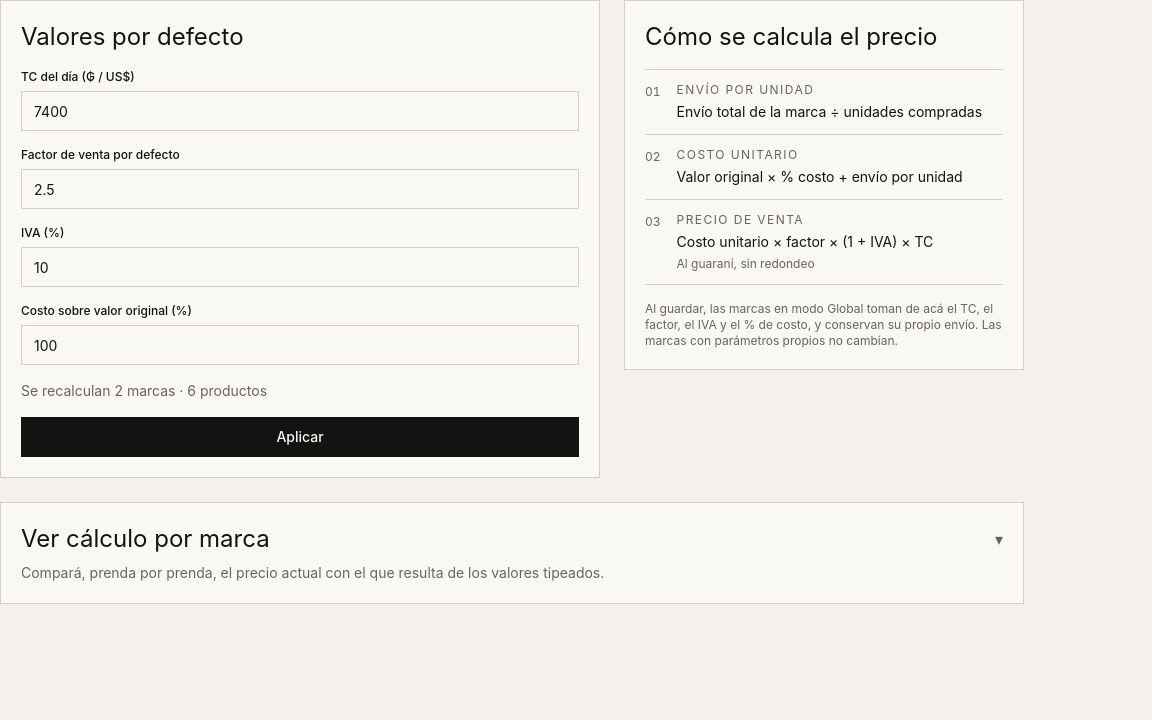
Test: SettingsForm › shows field errors
The width and height of the screenshot is (1152, 720).
Submit the form named "Aplicar", box [0, 0, 600, 478]
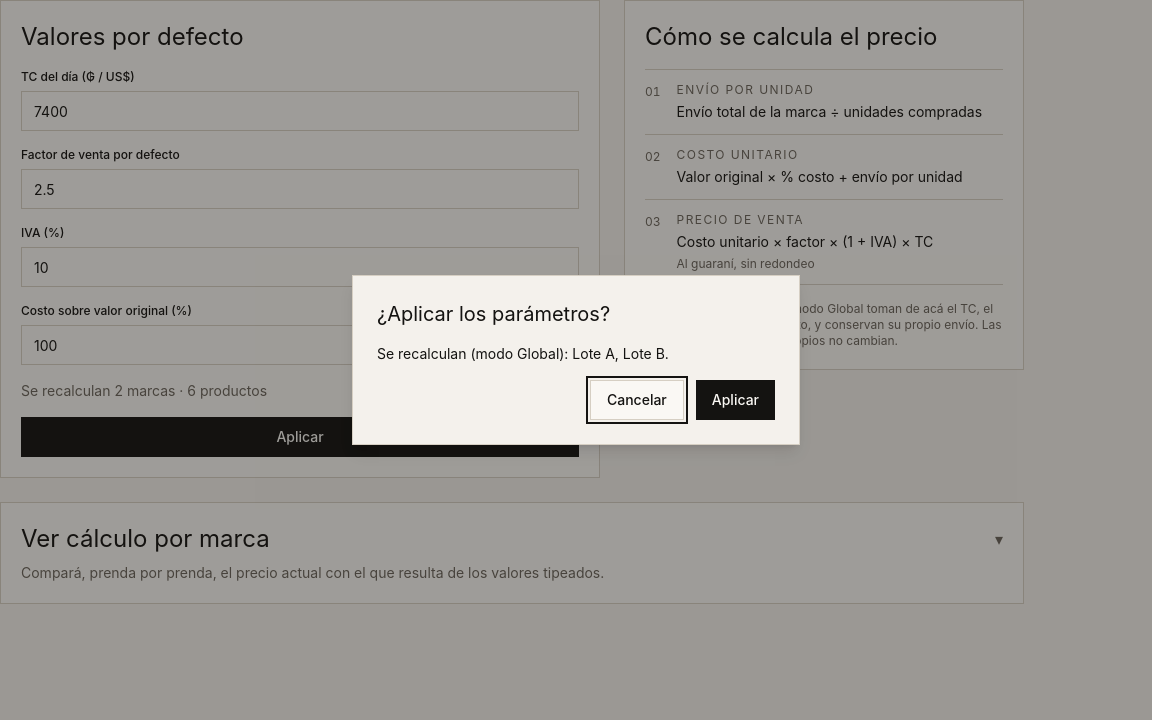
Click the button "Aplicar" at (735, 400), box [696, 380, 775, 420]
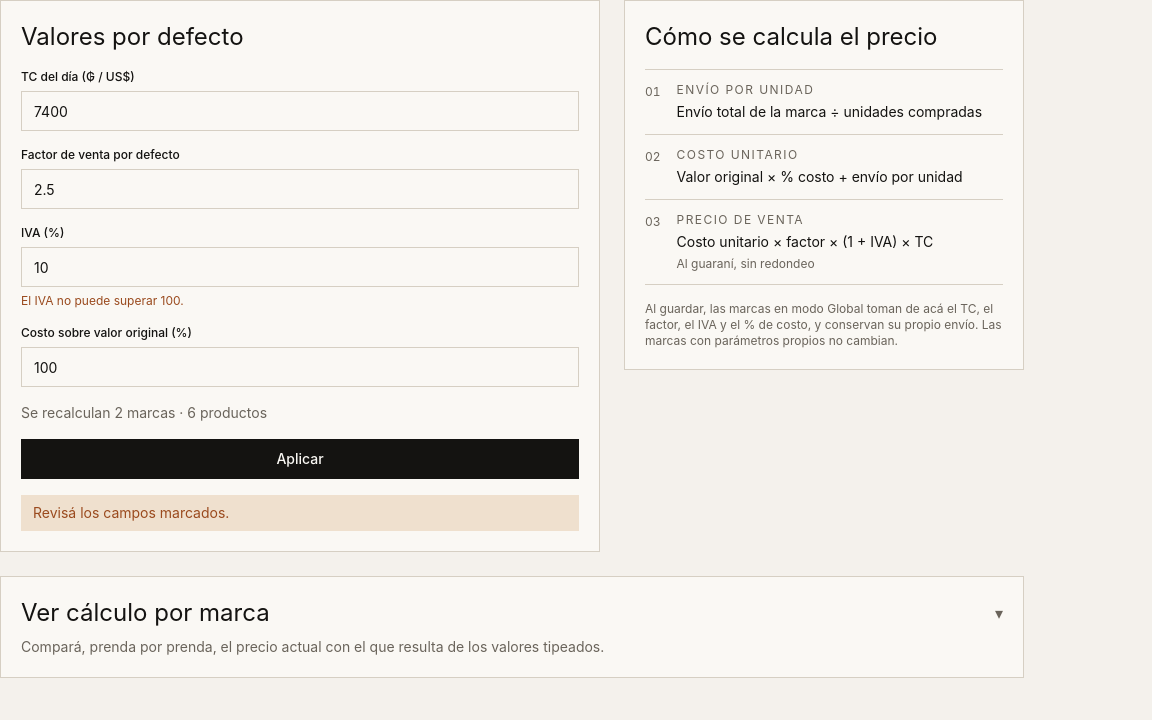
Now the text "El IVA no puede superar 100." is shown, box [21, 293, 184, 308]
